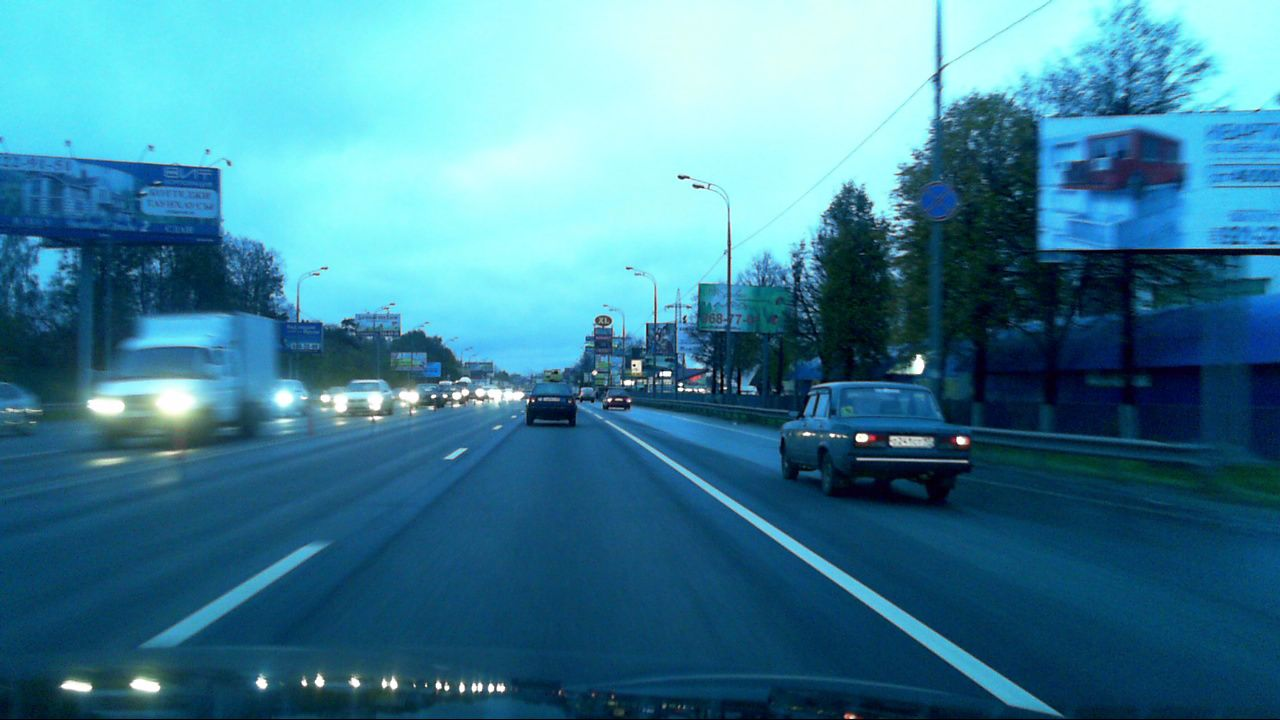No Parking: (919, 181, 957, 222)
